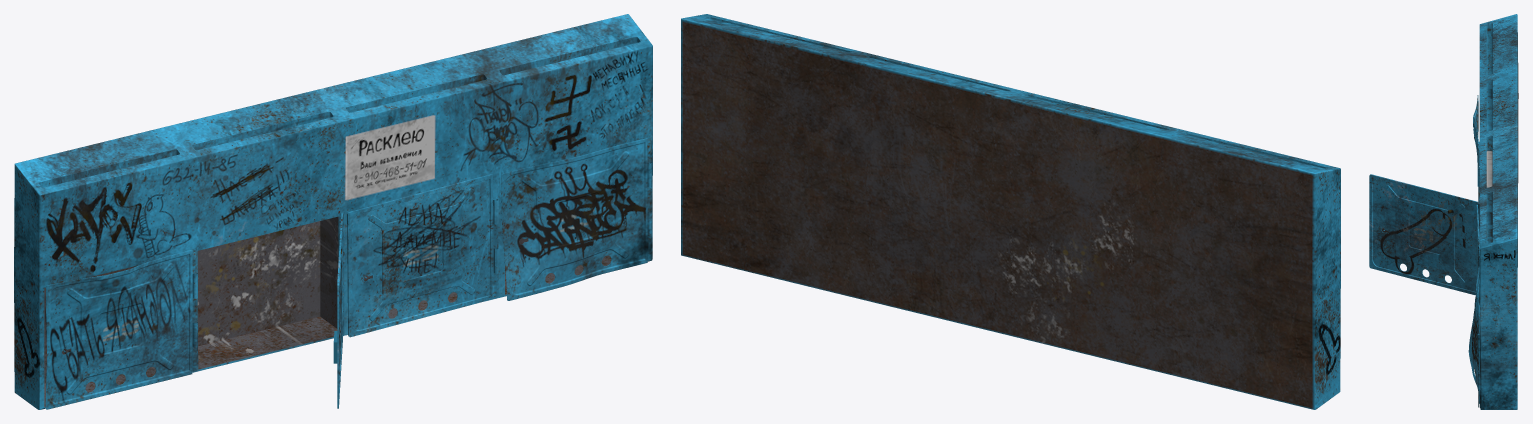
File: old_soviet_mailbox.glb
The picture shows the model from 3 angles, left to right: view 1: azimuth 30°, elevation 25°; view 2: azimuth 150°, elevation 25°; view 3: azimuth 270°, elevation 25°; orthographic projection. The views are drawn at different scales.
Visible parts, largest first — view 1: Base, Door_3, Door_4_Bent, Door_1_Bent, Door_2; view 2: Base; view 3: Base, Door_2, Door_4_Bent, Door_1_Bent, Door_3.
Boxes of the visible parts, x1=… form: Base: x1=14, y1=14, x2=652, y2=409; Door_3: x1=347, y1=174, x2=498, y2=337; Door_4_Bent: x1=501, y1=137, x2=652, y2=300; Door_1_Bent: x1=45, y1=248, x2=198, y2=409; Door_2: x1=333, y1=212, x2=344, y2=408; Base: x1=681, y1=14, x2=1340, y2=409; Base: x1=1479, y1=14, x2=1518, y2=409; Door_2: x1=1369, y1=174, x2=1479, y2=295; Door_4_Bent: x1=1468, y1=261, x2=1480, y2=407; Door_1_Bent: x1=1473, y1=95, x2=1479, y2=203; Door_3: x1=1476, y1=205, x2=1479, y2=304.
Bounding box in the file's own units: 1.02 × 0.3656 × 0.2871.
Materials: 1 (1 with a texture image).
